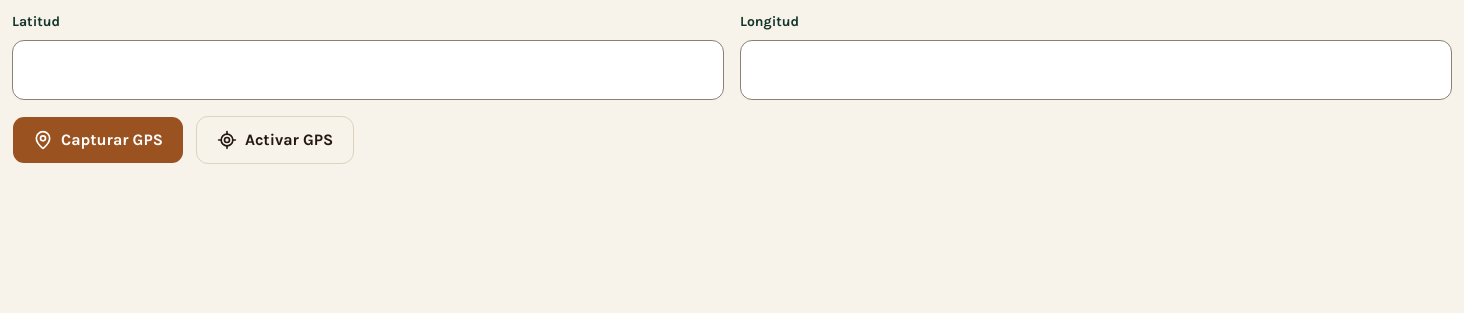
Test: farm location capture › GPS precision › warns when the precision is poor and offers the alternatives
Click the button "Capturar GPS". click: (98, 140)
box: x1=12 y1=116 x2=184 y2=164
Wait 30000 ms
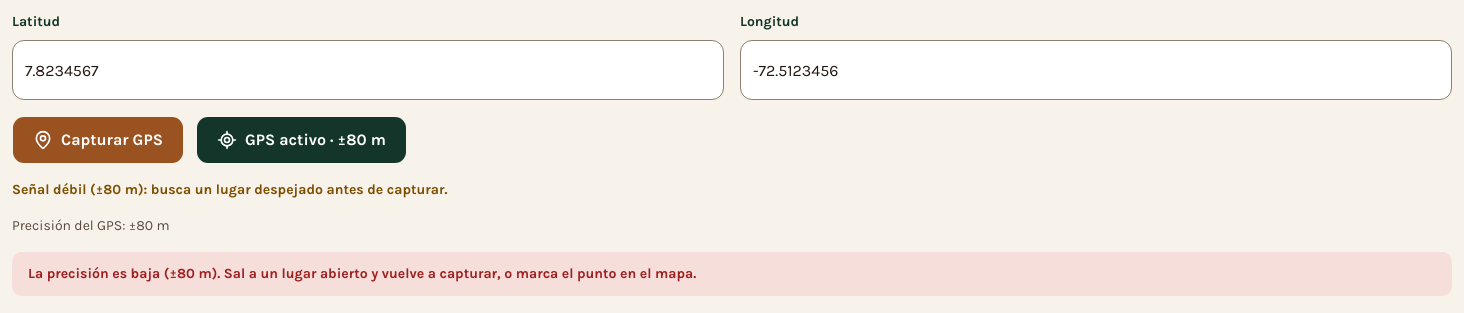
Now the message "Precisión del GPS: ±80 m" is shown, box x1=12 y1=217 x2=170 y2=234
Now the 2nd message shows "La precisión es baja", box x1=28 y1=265 x2=696 y2=282
Now the 2nd message shows "vuelve a capturar", box x1=28 y1=265 x2=696 y2=282
